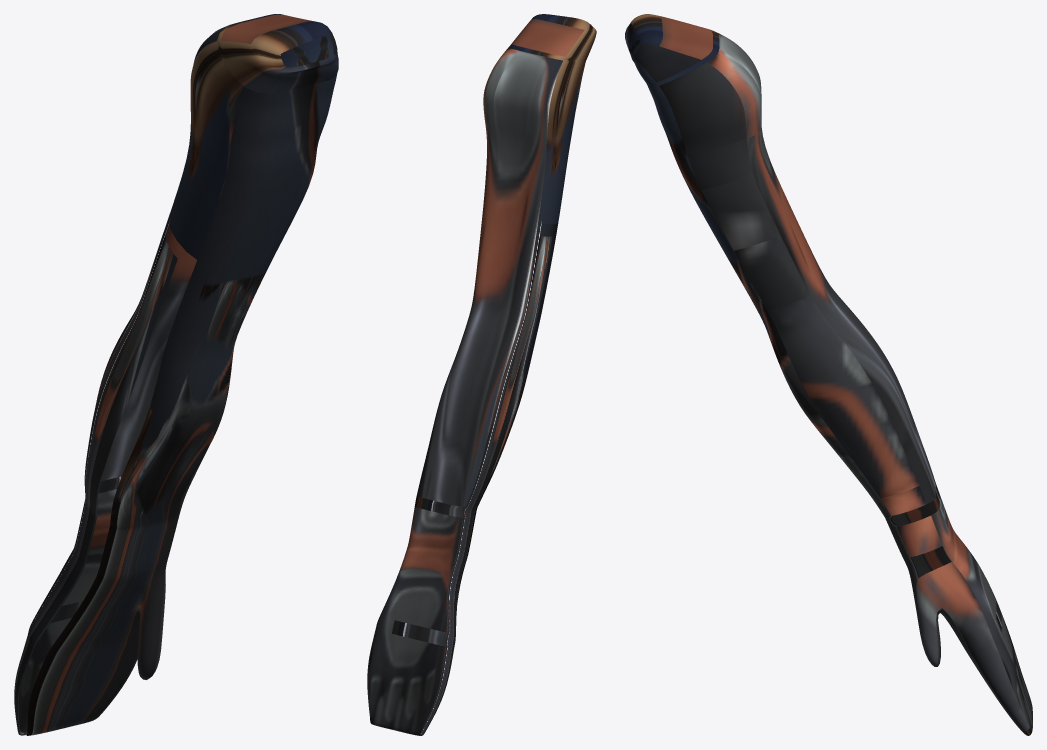
The model's file is RobinBrazoIzquierdo.obj.
3 views of the same model, side by side, from view 1: azimuth 30°, elevation 25°; view 2: azimuth 150°, elevation 25°; view 3: azimuth 270°, elevation 25° (orthographic). The views are drawn at different scales.
Visible parts, largest first — view 1: BrazoIzquierdo_Cube.004; view 2: BrazoIzquierdo_Cube.004; view 3: BrazoIzquierdo_Cube.004.
Part boxes in pixels (x1,y1,x2,y2): BrazoIzquierdo_Cube.004: (14,14,338,735); BrazoIzquierdo_Cube.004: (367,14,596,735); BrazoIzquierdo_Cube.004: (625,14,1032,735).
Bounding box in the file's own units: 0.2789 × 2 × 1.06.
